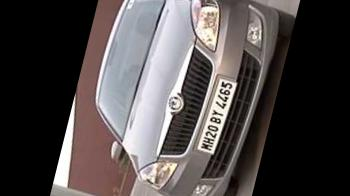plate: (180, 57, 255, 165)
